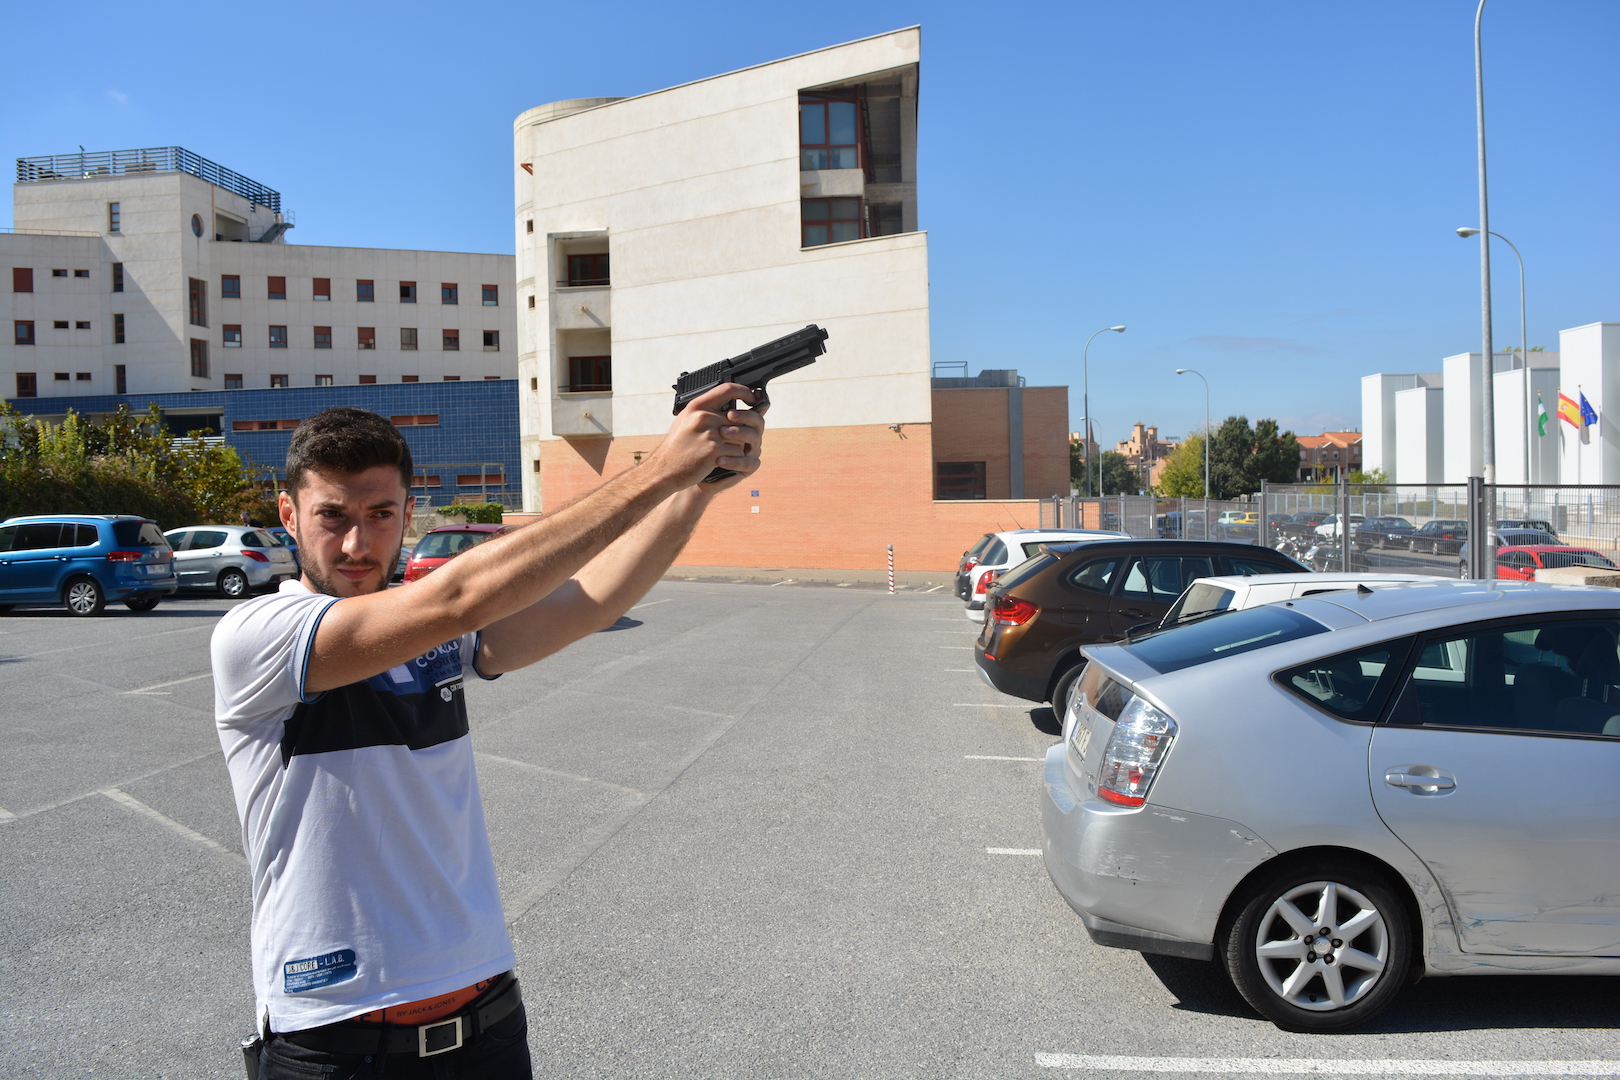pistol: (671, 322, 830, 486)
